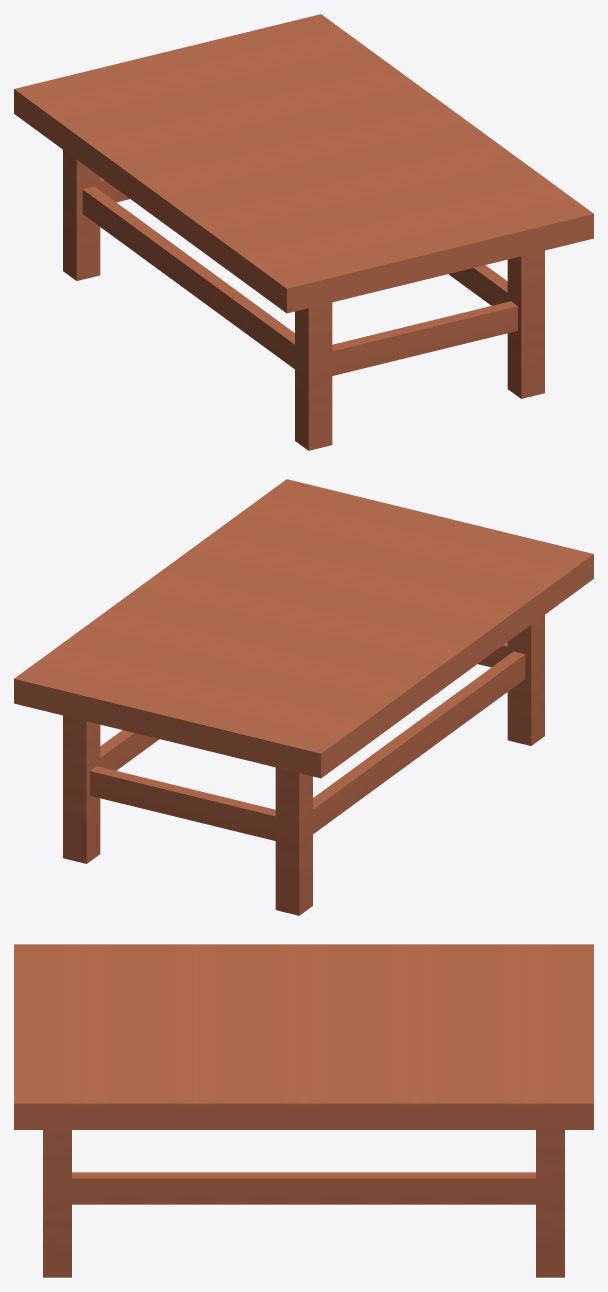
Rendered from stall.fbx.
3 views of the same model, one above another, from view 1: azimuth 30°, elevation 25°; view 2: azimuth 150°, elevation 25°; view 3: azimuth 270°, elevation 25° (orthographic). The views are drawn at different scales.
Visible parts, largest first — view 1: stall; view 2: stall; view 3: stall.
Part boxes in pixels (x1=…): stall: x1=14, y1=14, x2=593, y2=450; stall: x1=14, y1=479, x2=593, y2=915; stall: x1=14, y1=944, x2=593, y2=1277.
Size of the model in its own units: 0.65 by 1 by 0.3655.
